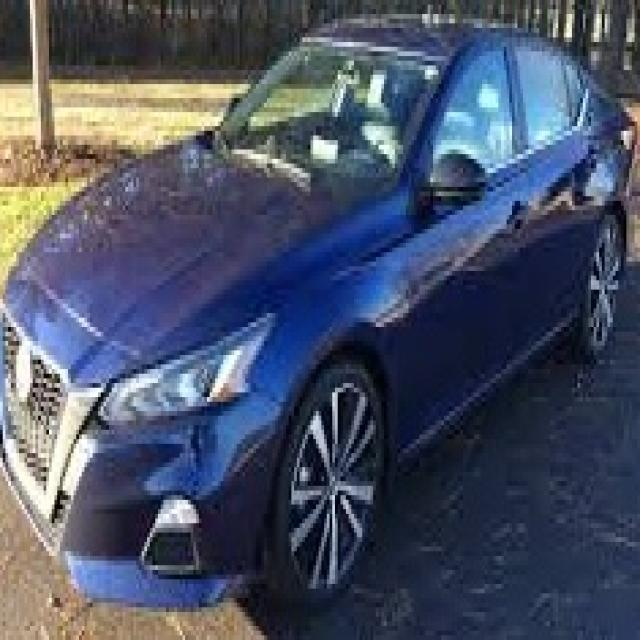blue: (0, 21, 632, 604)
